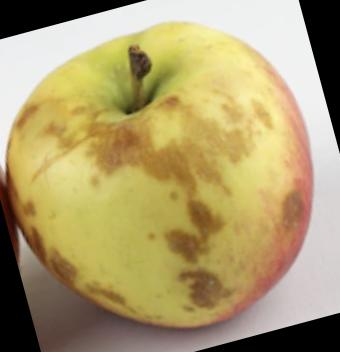Apple: (13, 25, 309, 330)
